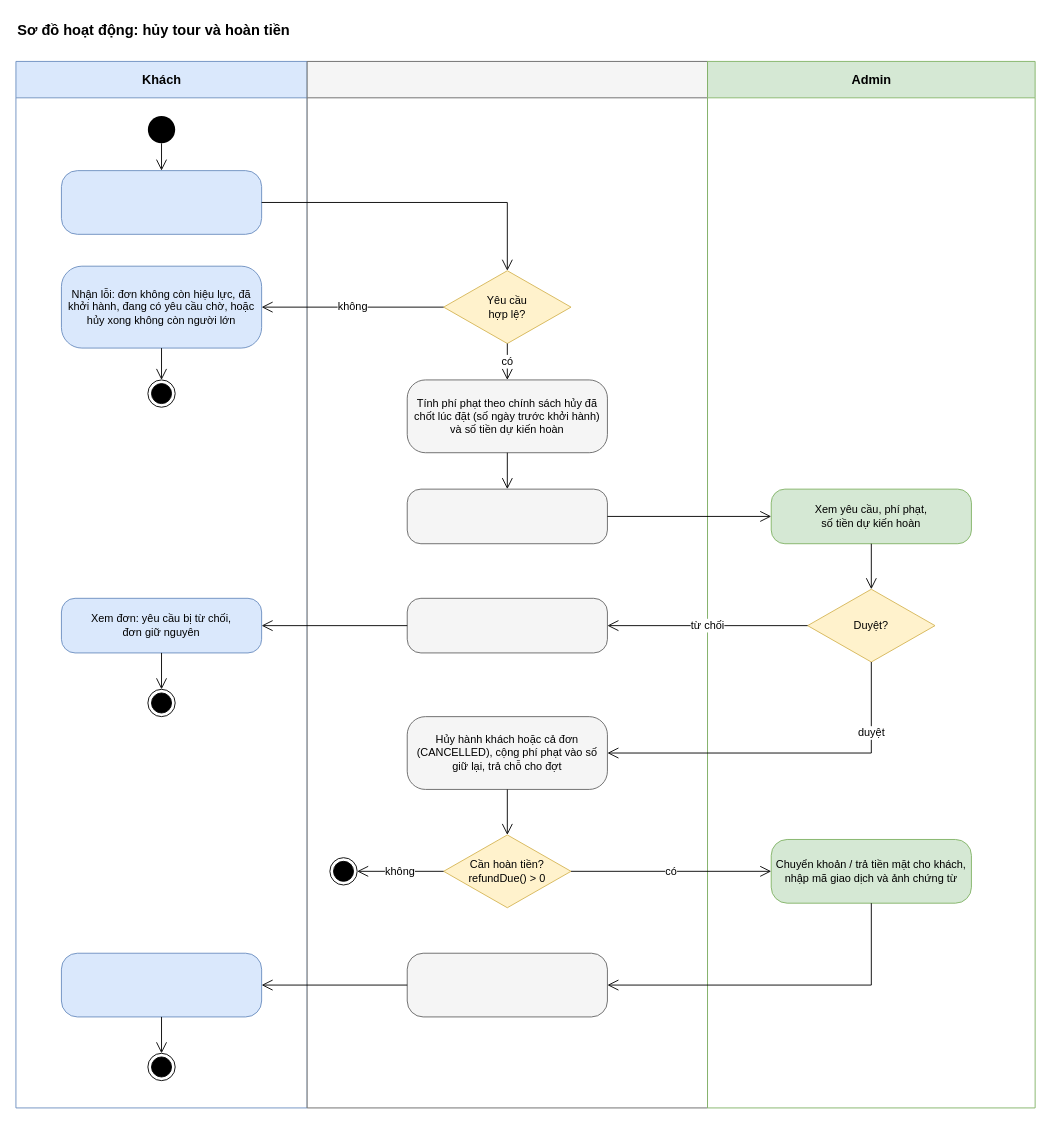
The diagram is 1051 pixels wide and 1124 high, and some of its shapes have lost their labels. The box of each missing label's shape, as (x1, y1, x2, y2) in pixels:
Ghi Refund, trừ paidAmount (không hoàn quá refundDue): (406, 952, 607, 1017)
Gửi yêu cầu hủy (cả đơn hoặc chọn hành khách, kèm lý do): (61, 170, 262, 234)
Hệ thống (Booking, CancellationService): (306, 61, 708, 1108)
Lưu CancellationRequest (PENDING): (406, 488, 607, 544)
Nhận tiền hoàn, xem sổ tiền của đơn: (61, 952, 262, 1017)
Đánh dấu REJECTED, ghi lịch sử đơn: (406, 597, 607, 653)
